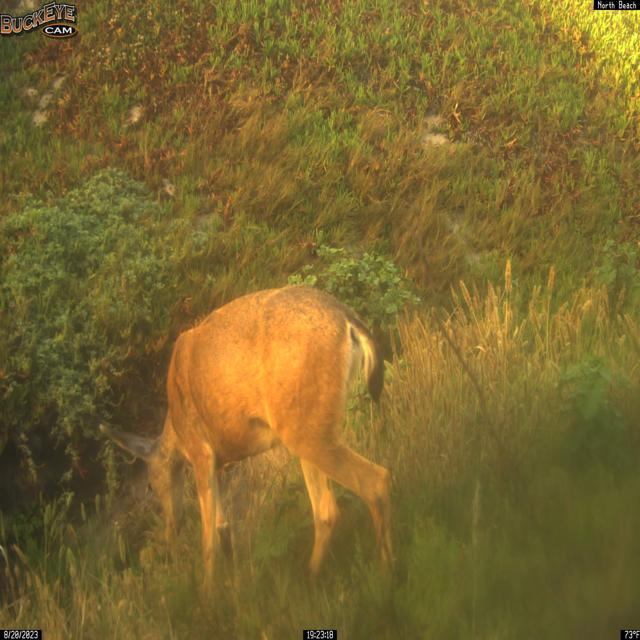deer: (98, 283, 397, 605)
